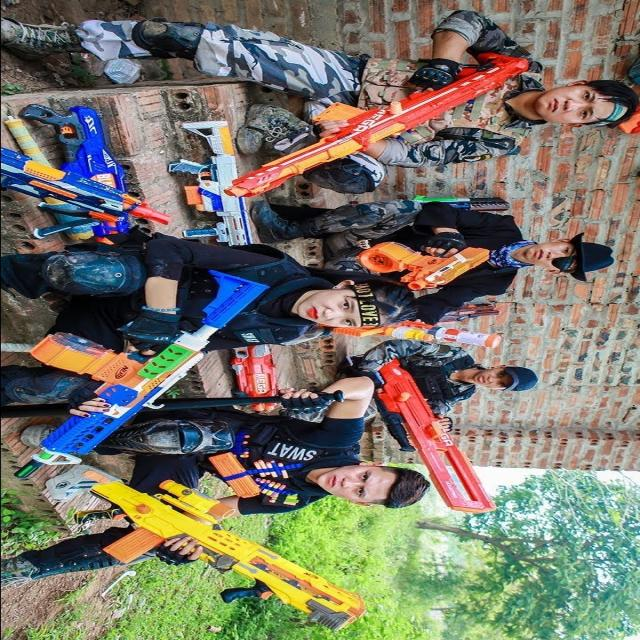Nerf gun: (44, 460, 374, 631), (14, 263, 276, 477), (221, 47, 534, 199), (371, 353, 500, 527), (16, 101, 138, 244), (1, 148, 175, 231), (166, 117, 262, 247), (354, 234, 498, 290), (220, 336, 288, 417), (328, 319, 506, 347)
